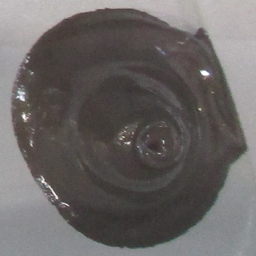perfect: (10, 7, 253, 250)
